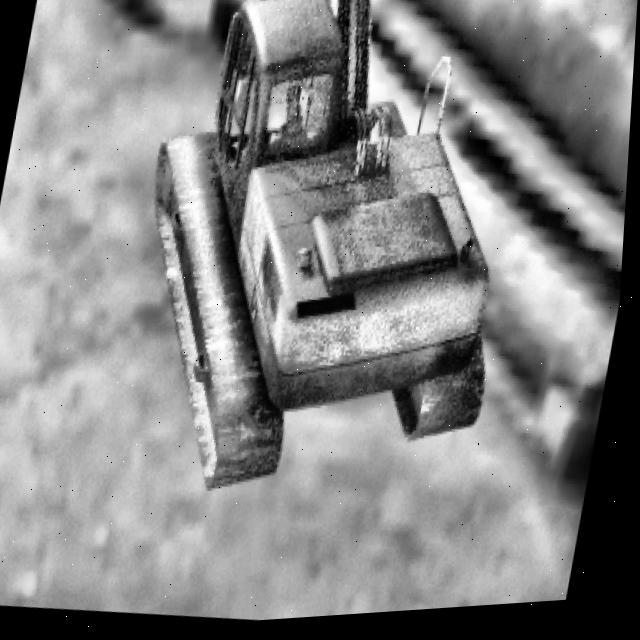excavator: (100, 0, 555, 527)
